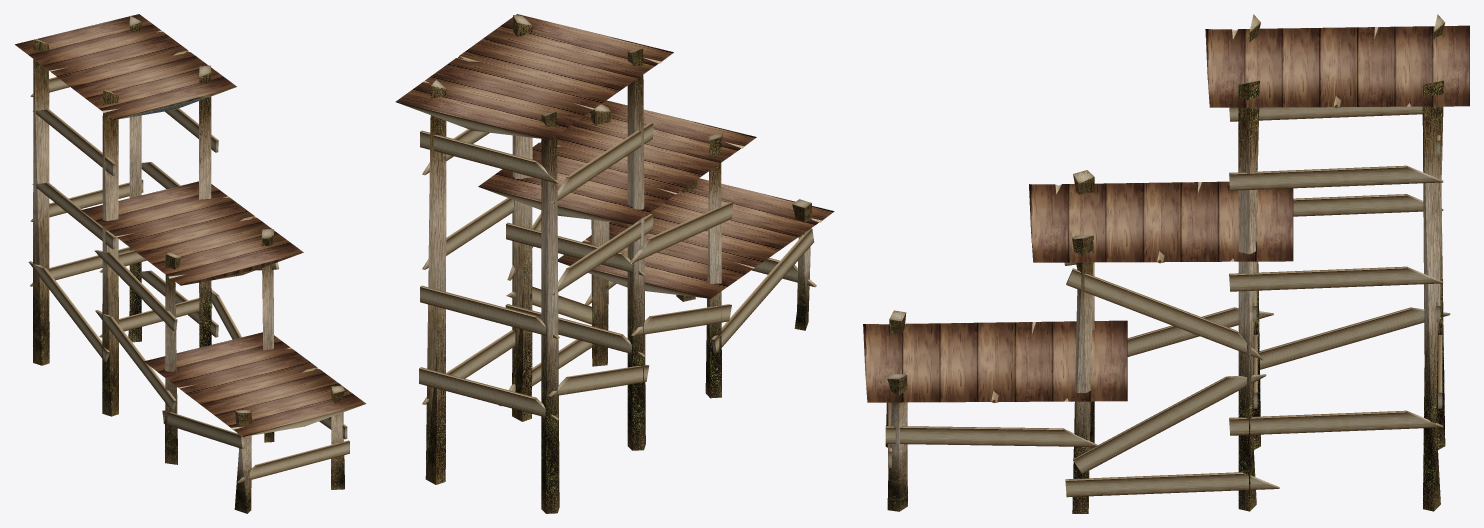
The model's file is p2_platform2_small_step_triple_LOD1.fbx.
3 renders of one model, left to right at view 1: azimuth 30°, elevation 25°; view 2: azimuth 150°, elevation 25°; view 3: azimuth 270°, elevation 25°, orthographic. The views are drawn at different scales.
Visible parts, largest first — view 1: polymsh; view 2: polymsh; view 3: polymsh.
Boxes of the visible parts, bbox=[...] form: polymsh: bbox=[15, 14, 366, 513]; polymsh: bbox=[395, 14, 834, 513]; polymsh: bbox=[863, 14, 1469, 513].
Bounding box in the file's own units: 100 × 250 × 318.
